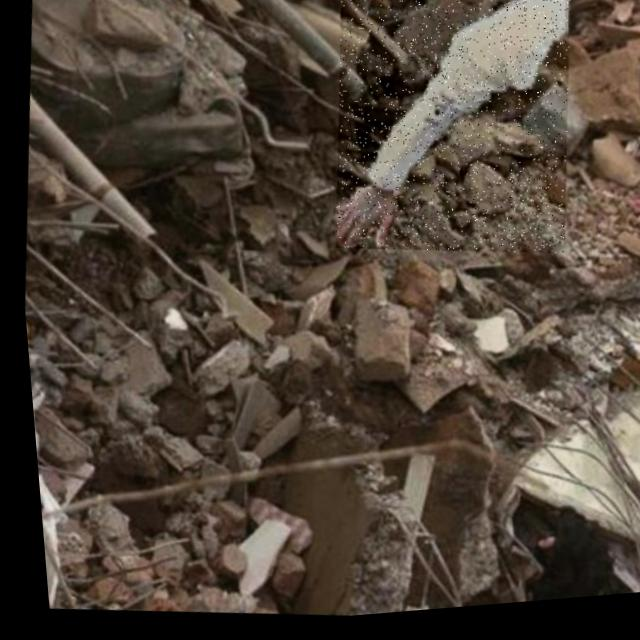Person in Rubble: (313, 0, 587, 276)
